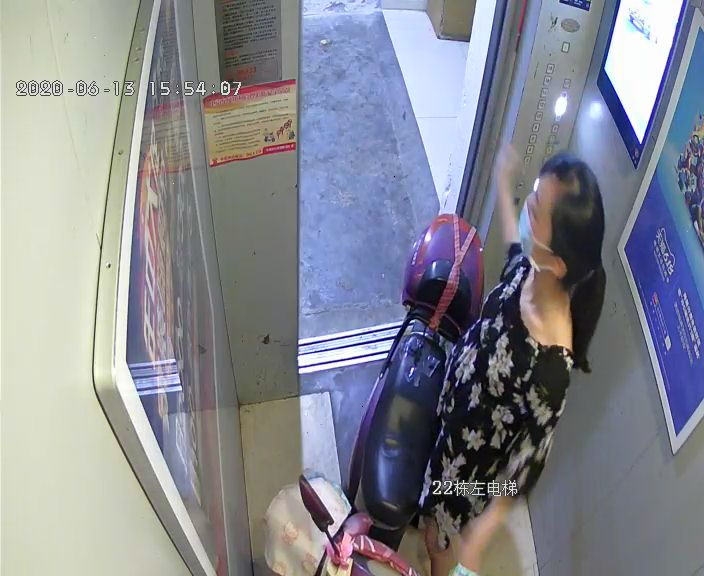Electric-bicycle: (297, 213, 485, 574)
